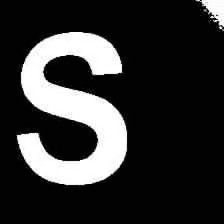LTR_S: (0, 24, 133, 190)
